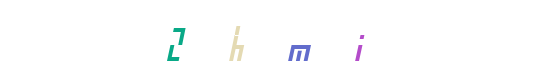2: (136, 0, 216, 80)
H: (202, 0, 282, 80)
I: (273, 0, 353, 80)
M: (240, 0, 320, 80)
